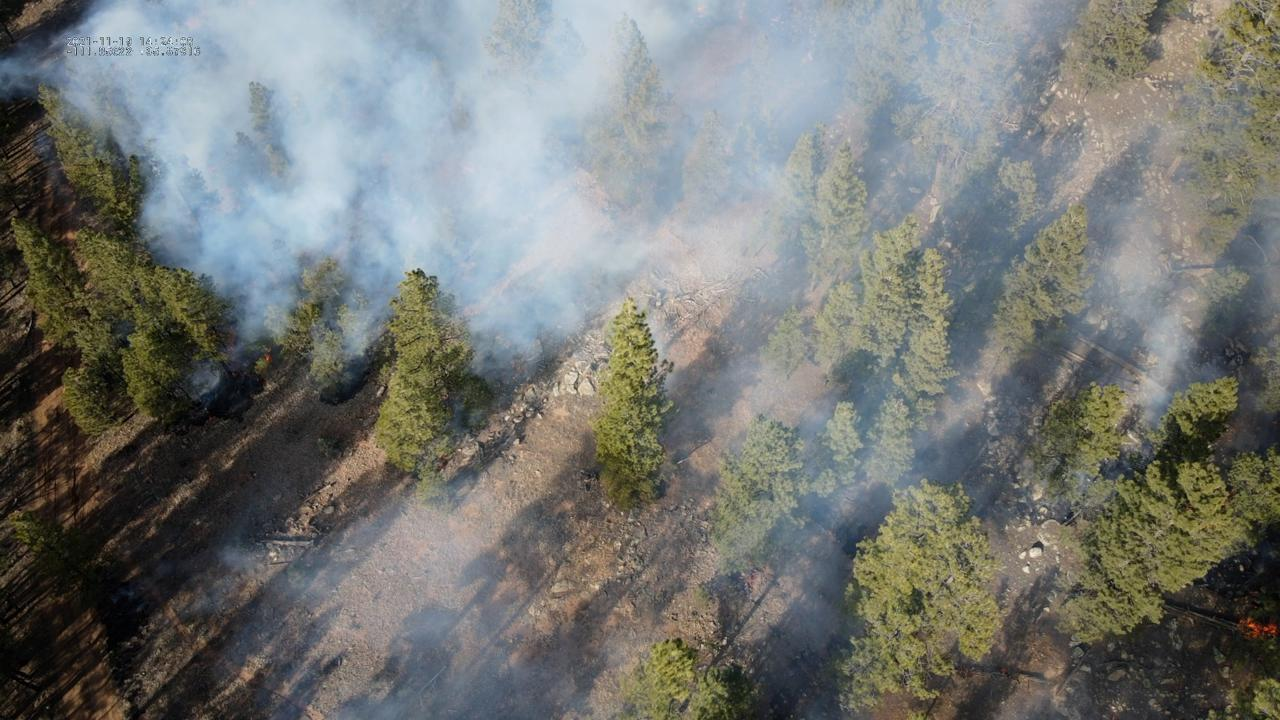fire: (1237, 613, 1280, 642), (743, 571, 756, 591), (263, 351, 276, 365)
smoke: (0, 0, 1215, 617), (121, 483, 645, 720), (1247, 193, 1280, 321)
